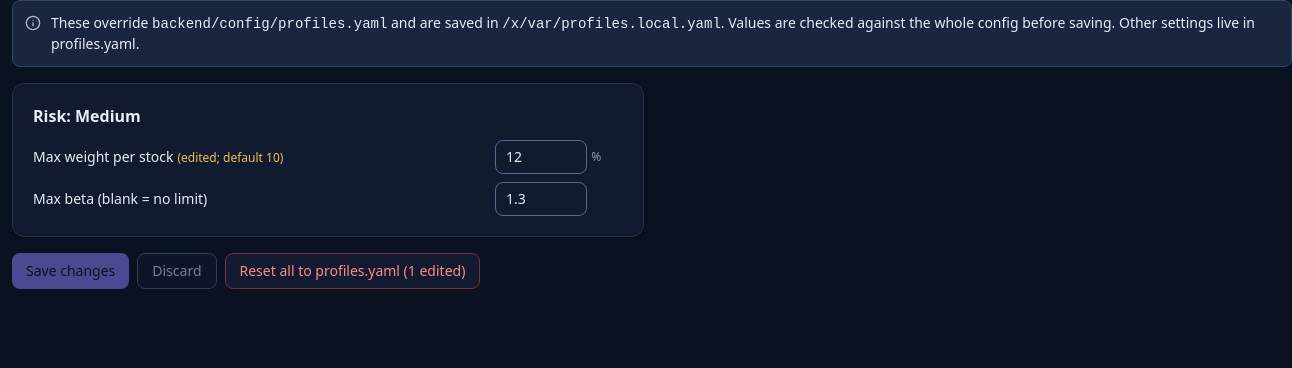
it: Thresholds › blocks saving a non-number
The width and height of the screenshot is (1292, 368).
Replace the text in the field named "Risk: medium: Max weight per stock" with "lots" at x=541, y=157, box x1=495 y1=140 x2=587 y2=174
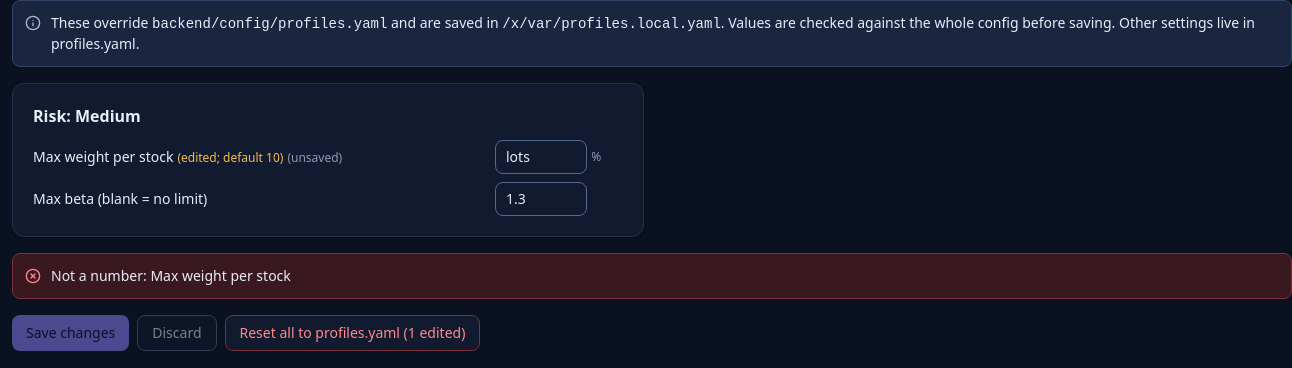
Expected: the button "Save changes" is disabled, x1=12 y1=315 x2=129 y2=351
Expected: the text "Not a number: Max weight per stock" is shown, x1=51 y1=266 x2=291 y2=285
